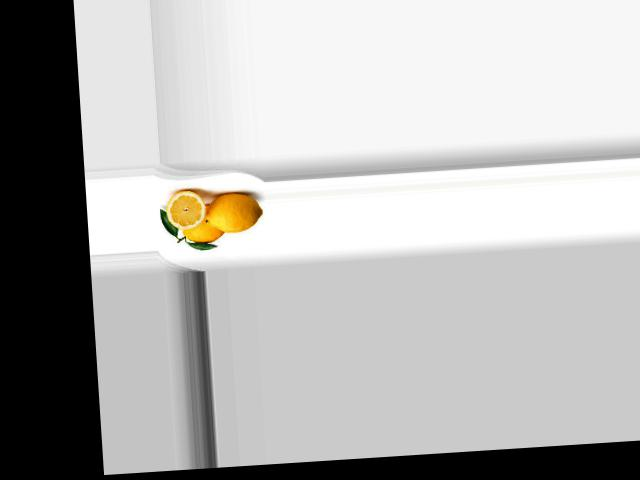lemon: (175, 206, 227, 246)
